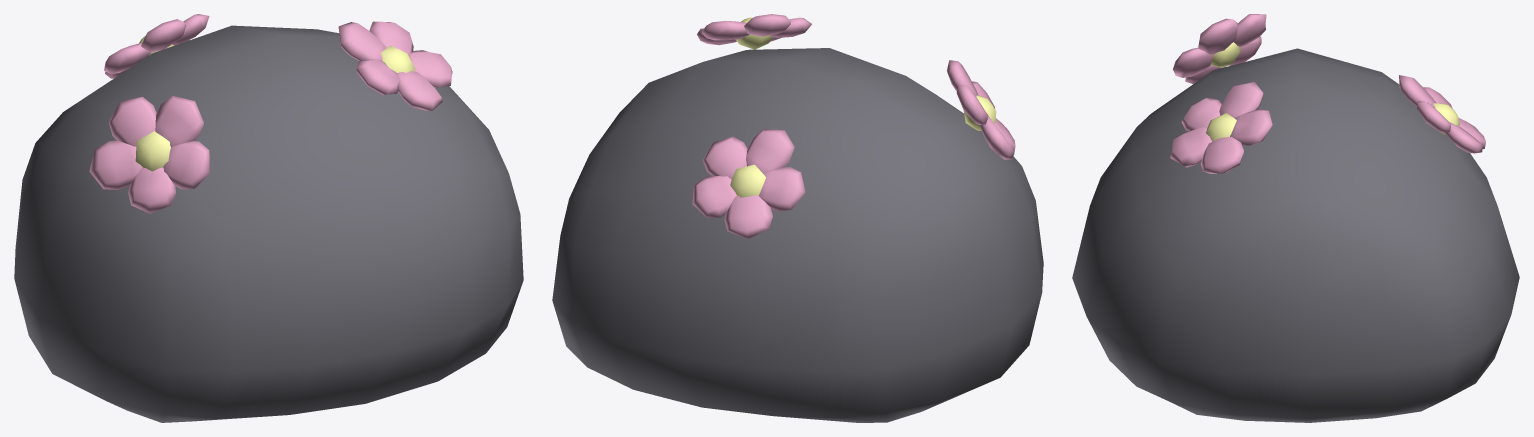
The model's file is Stone_03.fbx.
3 views of the same model, side by side, from view 1: azimuth 30°, elevation 25°; view 2: azimuth 150°, elevation 25°; view 3: azimuth 270°, elevation 25° (orthographic). The views are drawn at different scales.
Parts seen in each view (by area): view 1: polySurface1029; view 2: polySurface1029; view 3: polySurface1029.
Boxes of the visible parts, x1=… form: polySurface1029: x1=14, y1=14, x2=523, y2=422; polySurface1029: x1=552, y1=14, x2=1043, y2=422; polySurface1029: x1=1072, y1=14, x2=1519, y2=422.
Bounding box in the file's own units: 57.92 × 40.82 × 55.8.
